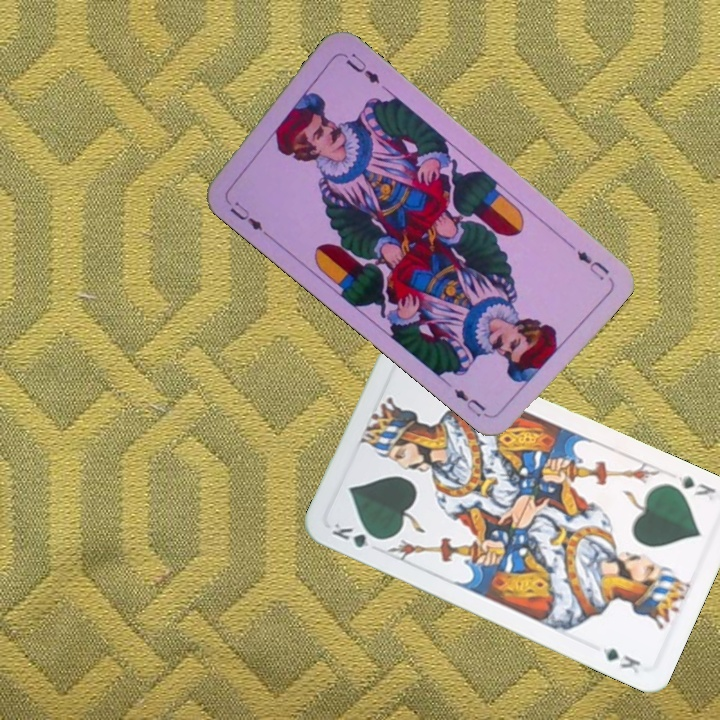EU: (562, 238, 612, 282), (223, 195, 270, 238)
GK: (327, 518, 385, 551), (672, 471, 718, 499)
